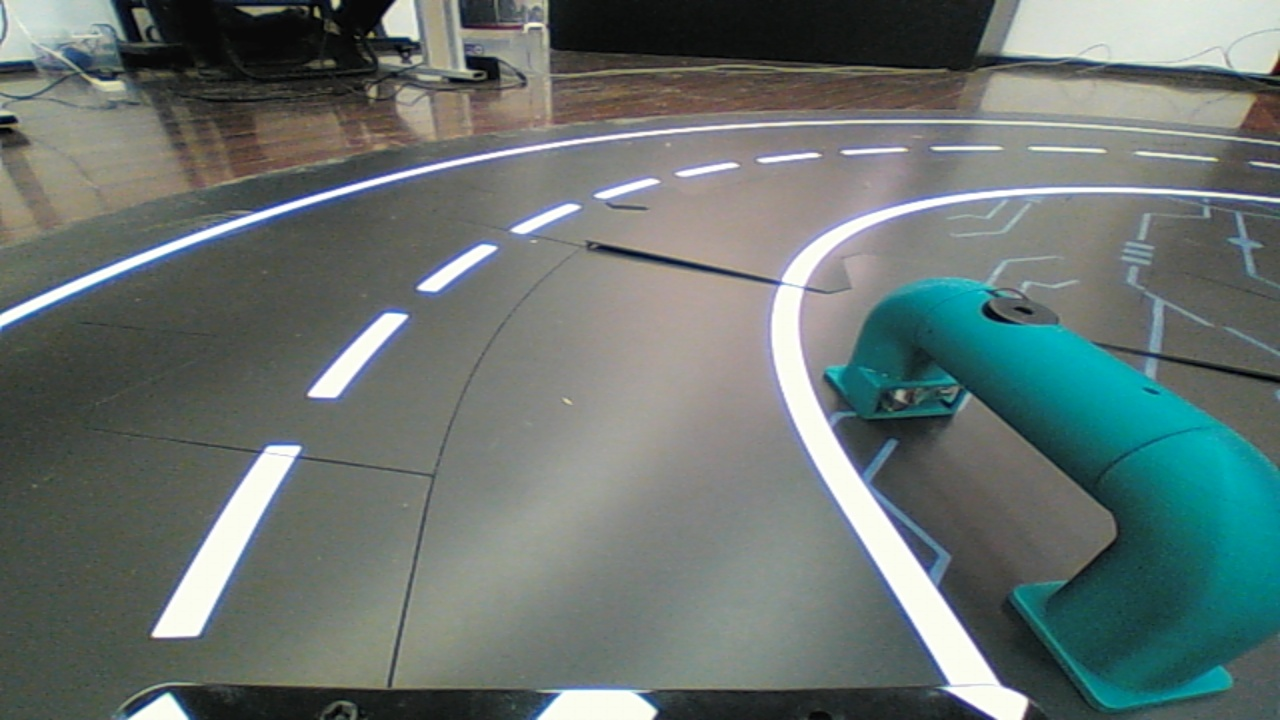Pedestrian crossing: (829, 240, 1267, 696)
